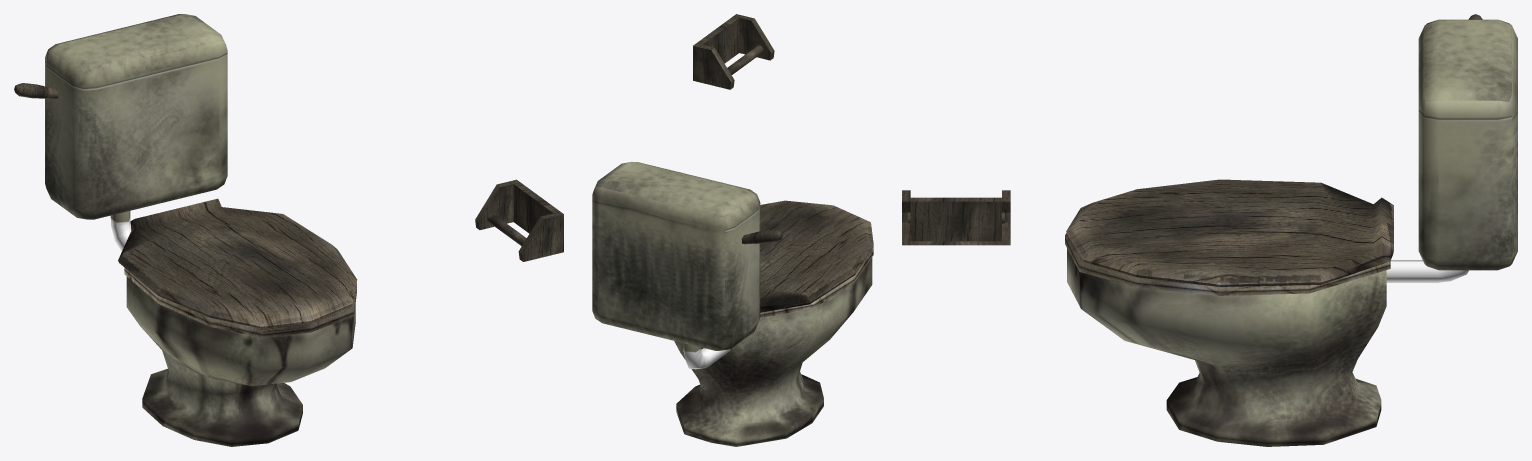
The model's file is toilets.fbx.
3 views of the same model, side by side, from view 1: azimuth 30°, elevation 25°; view 2: azimuth 150°, elevation 25°; view 3: azimuth 270°, elevation 25° (orthographic). The views are drawn at different scales.
Visible parts, largest first — view 1: cuvette, clapet, supportPQ, chasse; view 2: cuvette, clapet, supportPQ, chasse; view 3: cuvette, clapet, supportPQ.
Part boxes in pixels (x1,y1,x2,y2): cuvette: (45, 14, 356, 446); clapet: (118, 198, 357, 328); supportPQ: (475, 179, 563, 261); chasse: (14, 83, 58, 98); cuvette: (592, 161, 873, 446); clapet: (760, 200, 873, 312); supportPQ: (693, 14, 774, 89); chasse: (741, 229, 782, 244); cuvette: (1065, 19, 1517, 446); clapet: (1066, 179, 1393, 286); supportPQ: (902, 190, 1010, 245).
Size of the model in its own units: 109 by 108 by 170.
